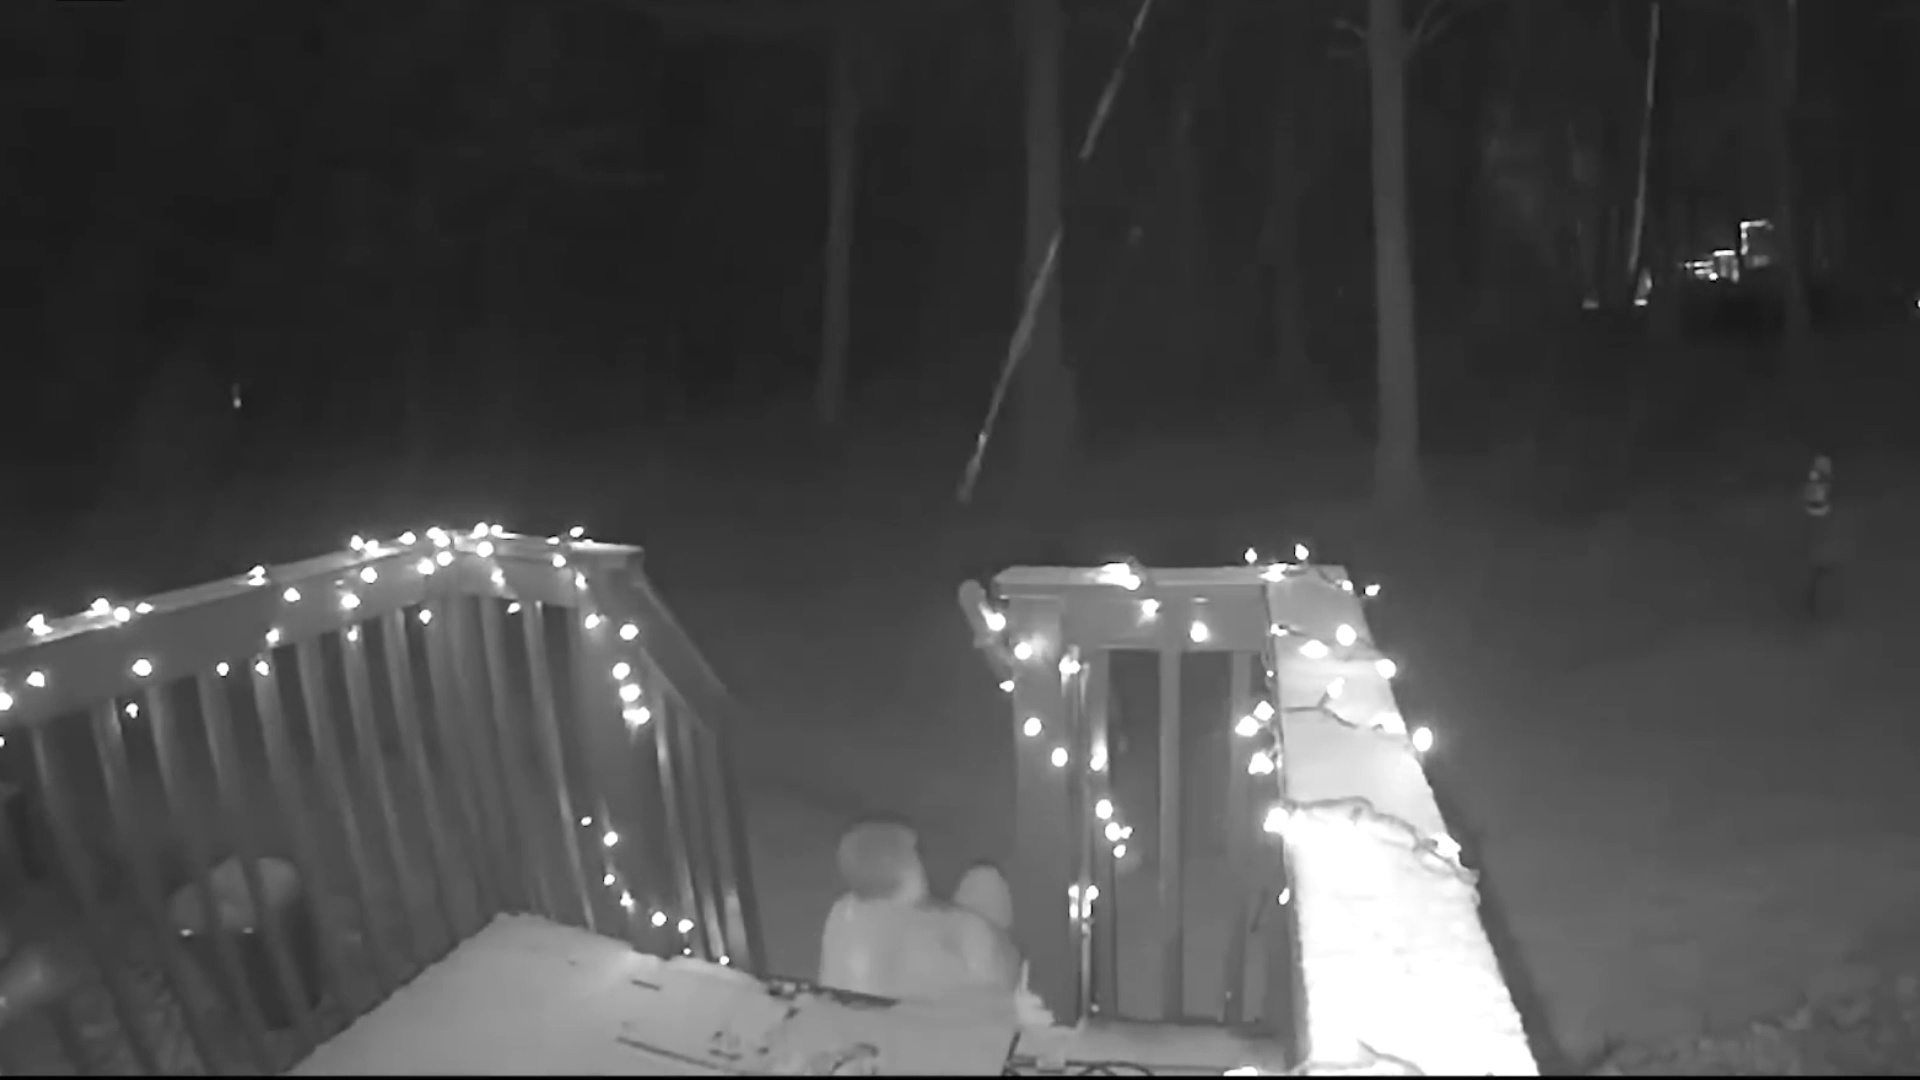fall: (735, 800, 1116, 1080)
